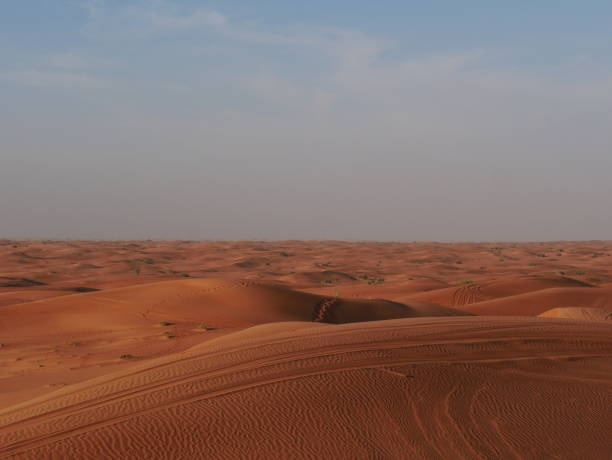vehicle_track: (0, 320, 608, 454), (0, 357, 439, 455), (43, 337, 547, 418), (207, 336, 294, 359), (417, 325, 491, 346), (312, 297, 339, 322), (452, 284, 483, 305)
